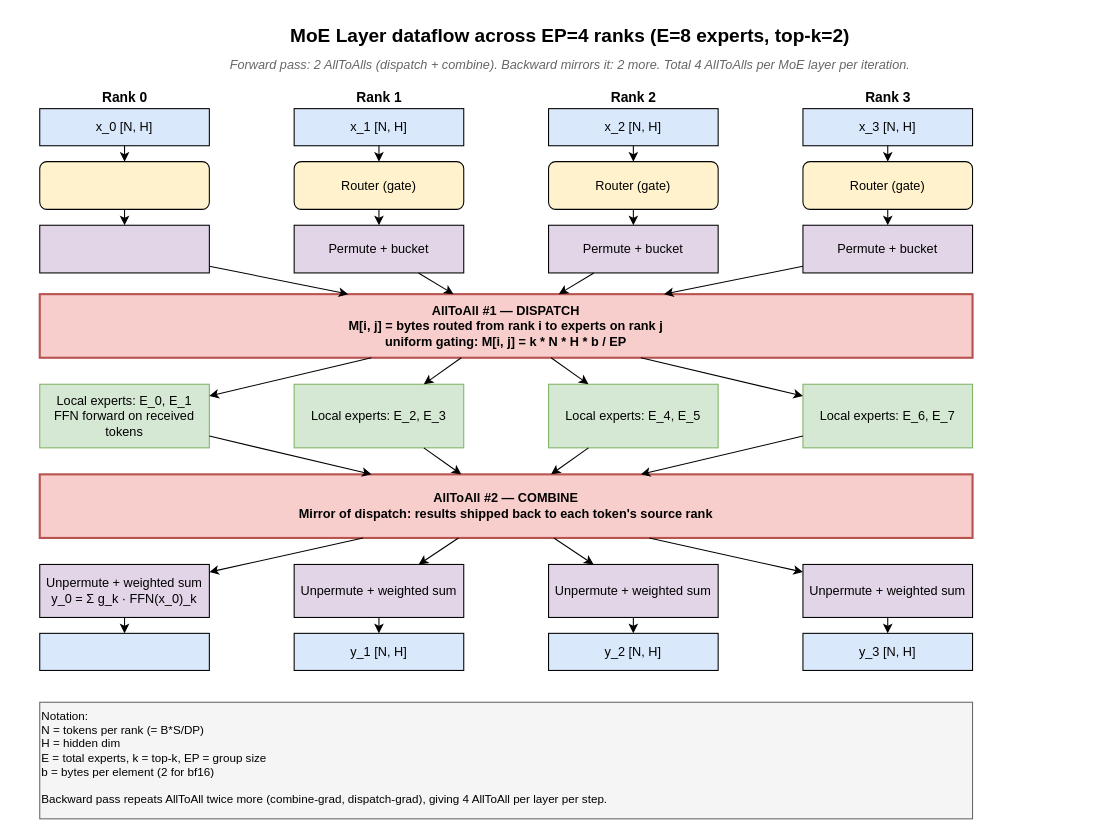
Some shapes in this 1117 by 837 pixel diagram are drawn without their labels. The shapes that lost their labels are listed below. From the top down, each one's box as (x1, y1, x2, y2) in pixels, then its label:
(39, 161, 209, 209): Router (gate) top-k indices + weights
(39, 224, 209, 273): Permute + bucket by dest expert
(39, 632, 209, 670): y_0 [N, H]
